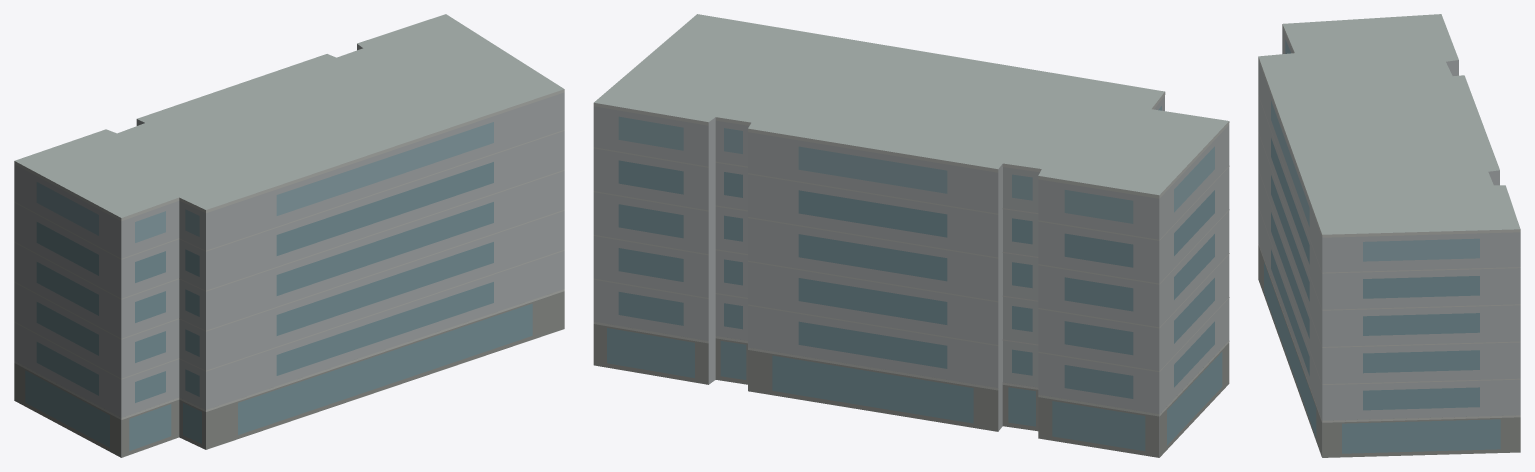
The model's file is survey-upis-33019386.glb.
3 renders of one model, left to right at view 1: azimuth 30°, elevation 25°; view 2: azimuth 150°, elevation 25°; view 3: azimuth 270°, elevation 25°, orthographic. The views are drawn at different scales.
Parts seen in each view (by area): view 1: survey-upis-33019386.tmp; view 2: survey-upis-33019386.tmp; view 3: survey-upis-33019386.tmp.
Boxes of the visible parts, <box> form: survey-upis-33019386.tmp: <box>14,14,564,457</box>; survey-upis-33019386.tmp: <box>593,14,1229,457</box>; survey-upis-33019386.tmp: <box>1258,14,1520,457</box>.
Bounding box in the file's own units: 38.63 × 18.2 × 19.4.
